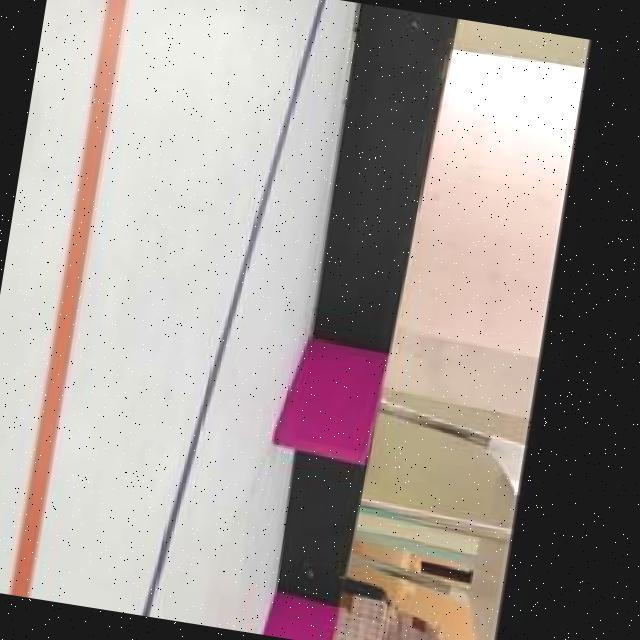xparking: (282, 342, 382, 463), (261, 599, 337, 640)
